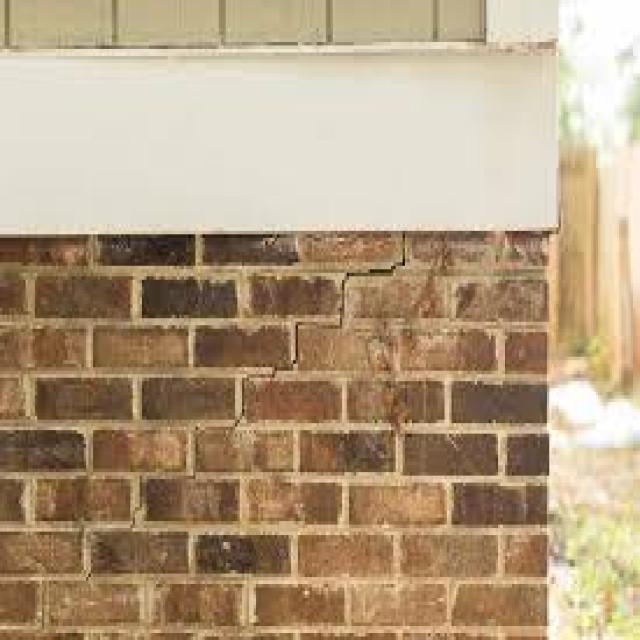Crack: (84, 227, 405, 574)
